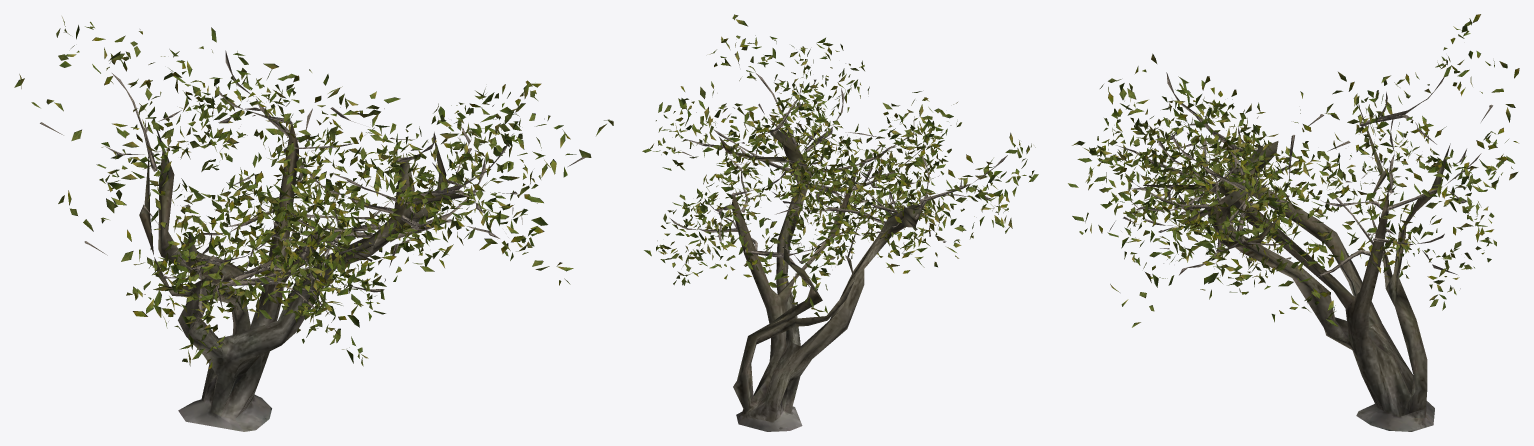
Rendered from arbre_feuillu_jeune_lod1.glb.
3 renders of one model, left to right at view 1: azimuth 30°, elevation 25°; view 2: azimuth 150°, elevation 25°; view 3: azimuth 270°, elevation 25°, orthographic. The views are drawn at different scales.
Visible parts, largest first — view 1: island_tree_02_LOD0; view 2: island_tree_02_LOD0; view 3: island_tree_02_LOD0.
Boxes of the visible parts, x1=… form: island_tree_02_LOD0: x1=14, y1=17, x2=613, y2=431; island_tree_02_LOD0: x1=642, y1=14, x2=1038, y2=431; island_tree_02_LOD0: x1=1068, y1=14, x2=1519, y2=431.
Size of the model in its own units: 3.79 by 3.37 by 3.96.
3 materials, 3 textured.
